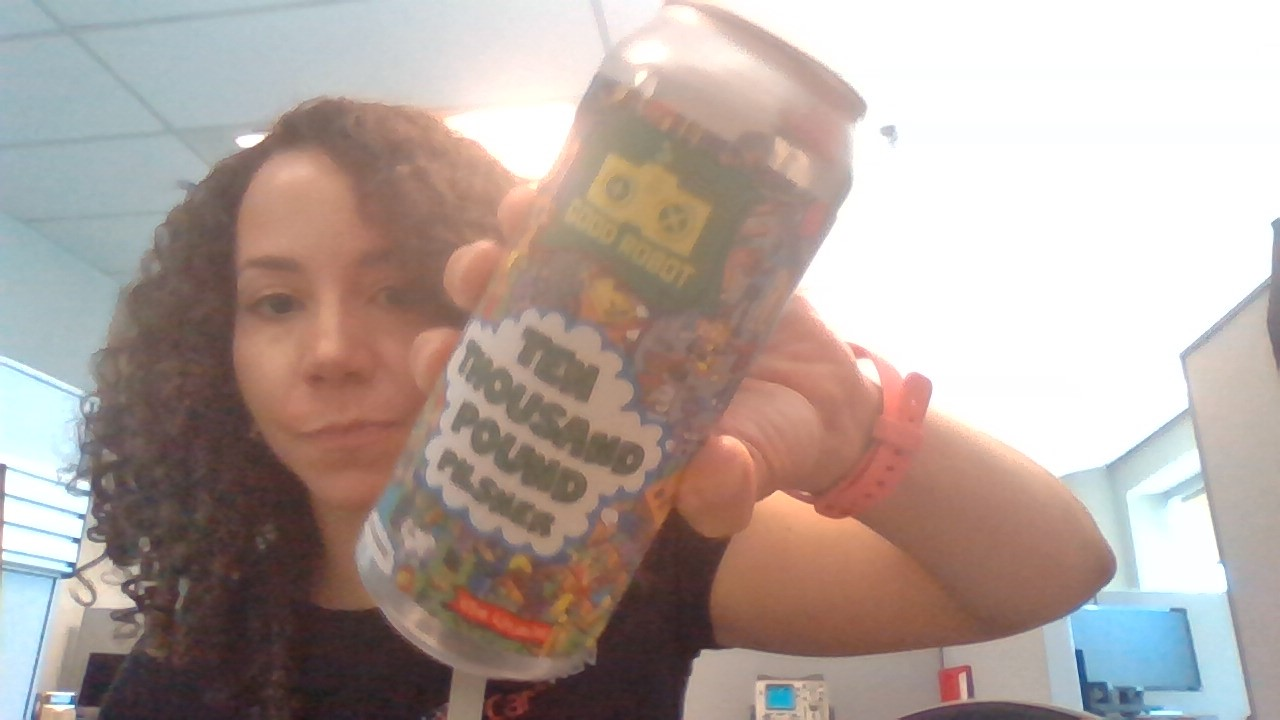Good Robot: (593, 135, 738, 267)
